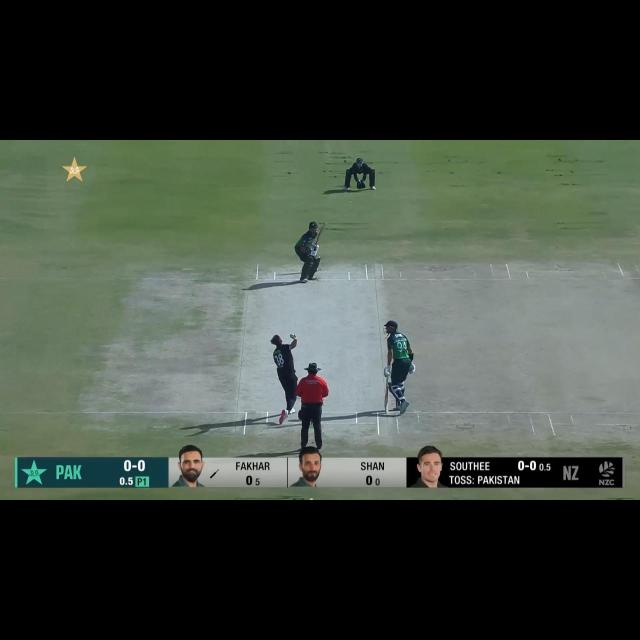bat: (316, 222, 326, 246), (385, 379, 389, 412)
toe: (384, 404, 391, 413), (322, 223, 325, 230)
